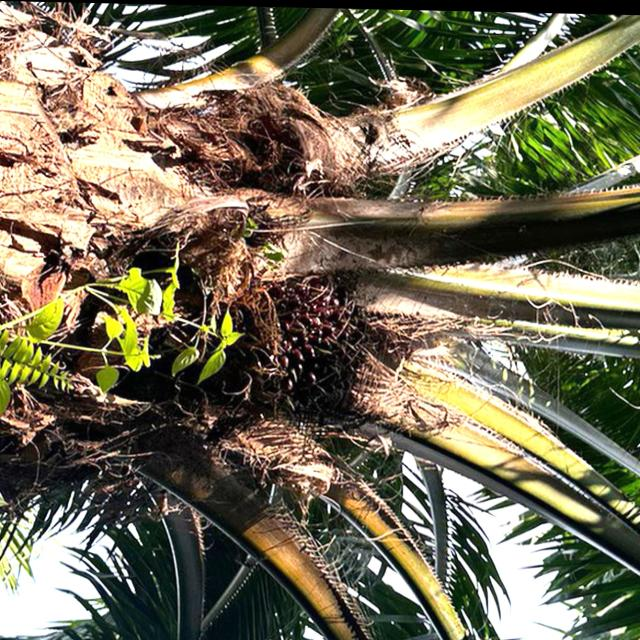unripe: (178, 257, 386, 436)
